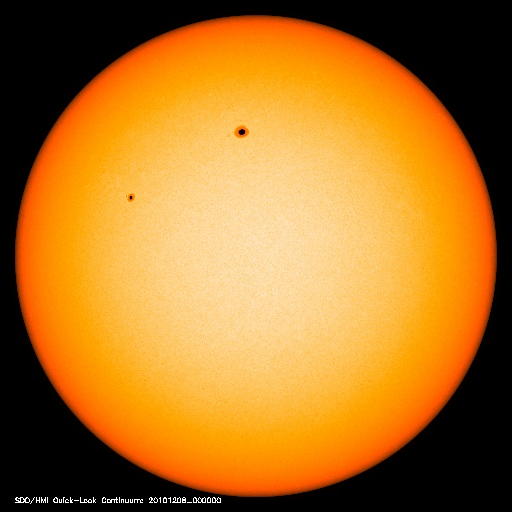sunspot: (226, 117, 258, 144), (115, 183, 146, 210)
